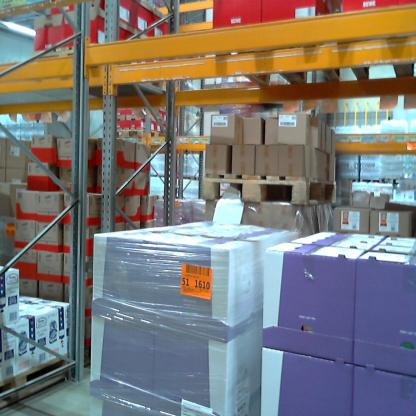pallet: (196, 22, 352, 95), (26, 41, 186, 99), (333, 13, 415, 89), (198, 173, 342, 209), (2, 351, 72, 410), (108, 124, 174, 143), (332, 174, 360, 186), (357, 176, 383, 188)
